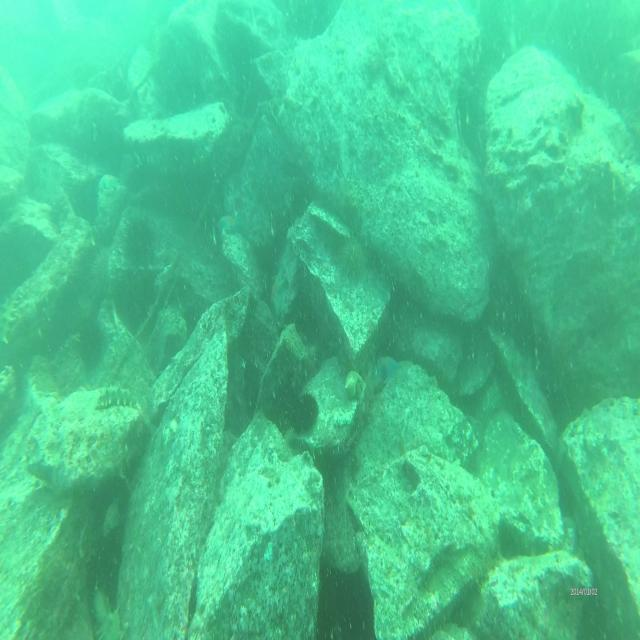echinus: (120, 209, 162, 274), (73, 313, 112, 368), (286, 390, 322, 441), (335, 233, 370, 285), (84, 244, 110, 299)
holothurian: (0, 282, 33, 355), (92, 379, 136, 416), (92, 606, 124, 640)
starfish: (372, 348, 400, 390), (215, 213, 242, 237)
